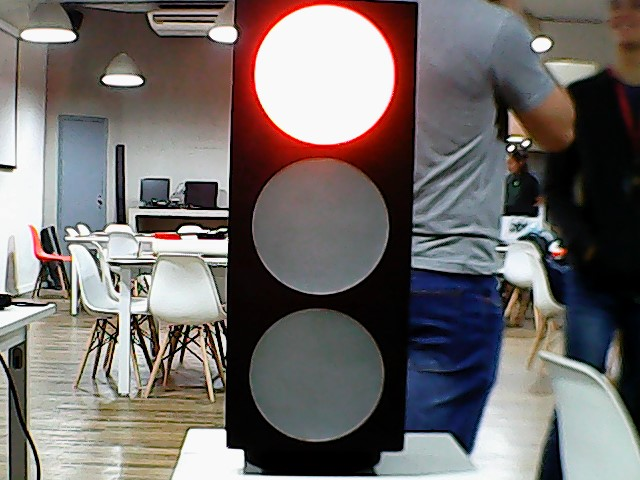vermelho: (224, 1, 421, 476)
